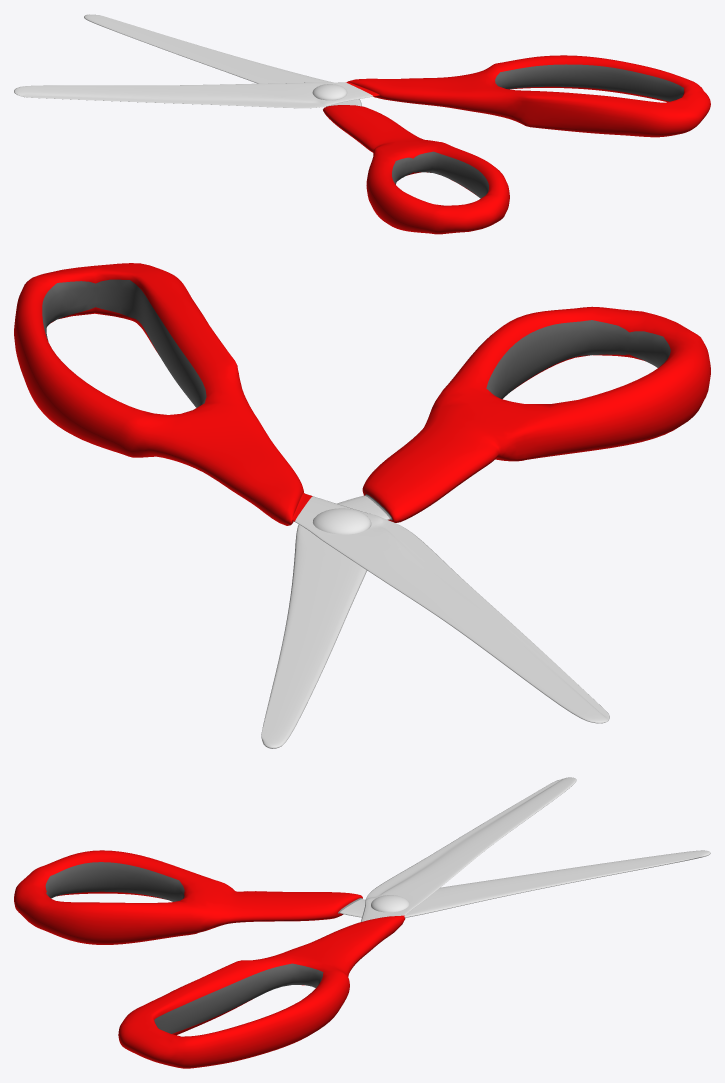
The model's file is Scissors.fbx.
3 views of the same model, one above another, from view 1: azimuth 30°, elevation 25°; view 2: azimuth 150°, elevation 25°; view 3: azimuth 270°, elevation 25° (orthographic). The views are drawn at different scales.
Parts seen in each view (by area): view 1: Scissors R, Scissors L, Scissors Pin; view 2: Scissors R, Scissors L, Scissors Pin; view 3: Scissors R, Scissors L, Scissors Pin.
Part boxes in pixels (left/top/right/bottom): Scissors R: left=14, top=55, right=710, bottom=137; Scissors L: left=84, top=14, right=509, bottom=234; Scissors Pin: left=312, top=84, right=347, bottom=100; Scissors R: left=14, top=263, right=609, bottom=723; Scissors L: left=261, top=306, right=710, bottom=748; Scissors Pin: left=313, top=508, right=371, bottom=534; Scissors R: left=118, top=777, right=576, bottom=1068; Scissors L: left=14, top=850, right=710, bottom=944; Scissors Pin: left=371, top=895, right=409, bottom=912.
Bounding box in the file's own units: 5 × 0.3366 × 5.24.
